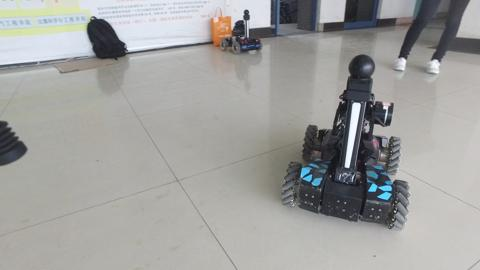bag: (85, 14, 129, 61), (209, 6, 233, 48)
chariot: (280, 53, 410, 231), (219, 7, 263, 55)
